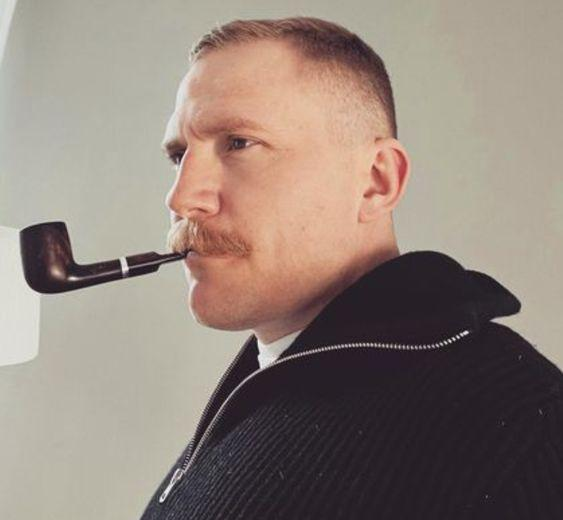trubka: (19, 222, 186, 295)
